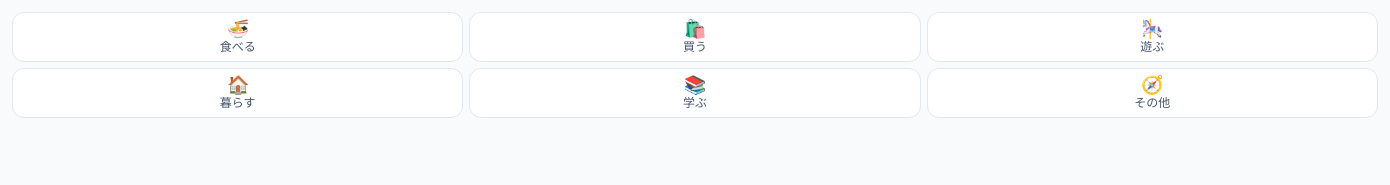
Scenario: CategoryPicker（mobile: 目的チップ） › 目的チップをタップするとその目的のカテゴリチップが展開される
The image size is (1390, 185).
Step 1. Click the button "🍜 食べる" → point(238, 37), box [12,12,463,62]
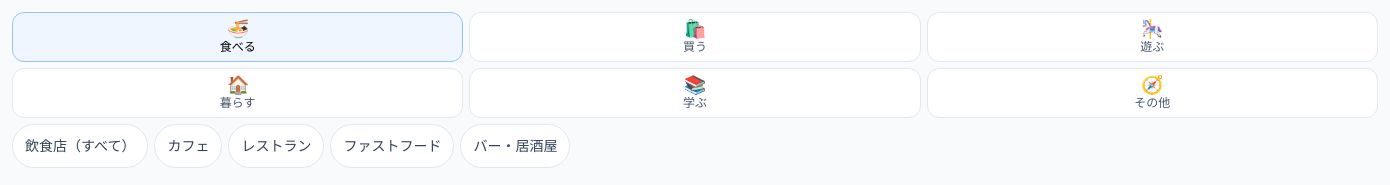
Expected: the button "🍜 食べる" is expanded, [12,12,463,62]
Expected: the button "カフェ" is shown, [154,124,222,168]
Expected: the button "レストラン" is shown, [228,124,324,168]
